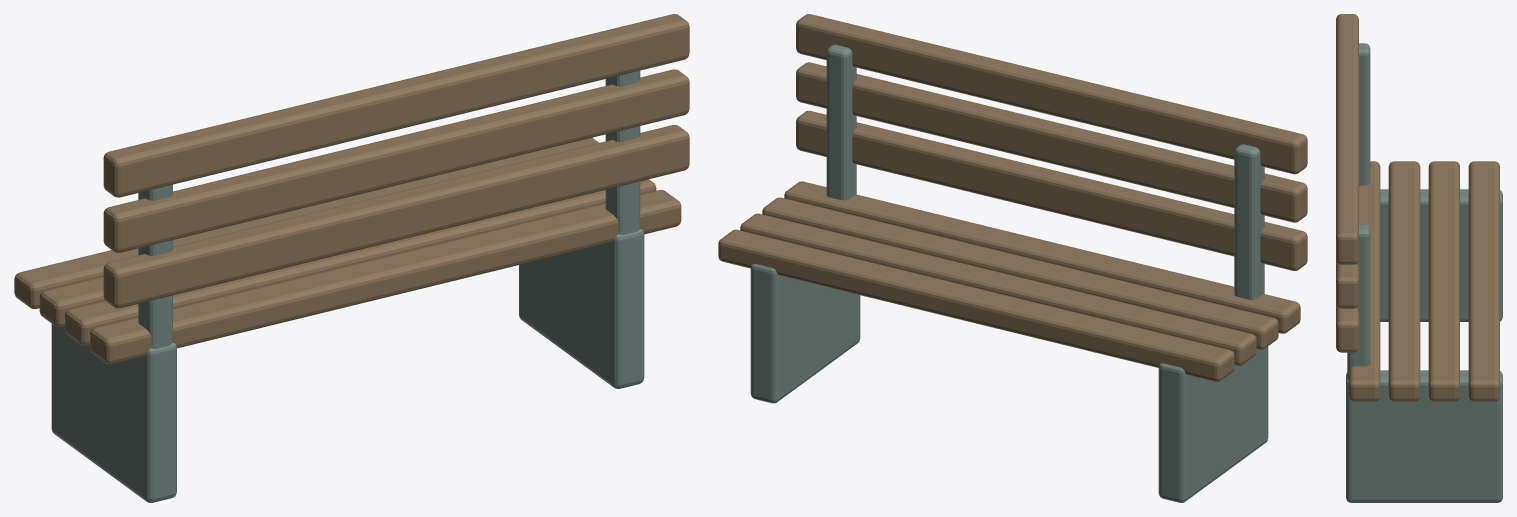
Rendered from bench.glb.
The picture shows the model from 3 angles, left to right: view 1: azimuth 30°, elevation 25°; view 2: azimuth 150°, elevation 25°; view 3: azimuth 270°, elevation 25°; orthographic projection. The views are drawn at different scales.
Parts seen in each view (by area): view 1: Bench_Wood, Bench_Metal; view 2: Bench_Wood, Bench_Metal; view 3: Bench_Wood, Bench_Metal.
Boxes of the visible parts, box(x1,y1,x2,y2) form: Bench_Wood: box(14, 14, 689, 364); Bench_Metal: box(51, 70, 644, 502); Bench_Wood: box(718, 14, 1307, 381); Bench_Metal: box(750, 44, 1268, 502); Bench_Wood: box(1336, 14, 1499, 401); Bench_Metal: box(1346, 43, 1502, 502).
Size of the model in its own units: 1.85 by 1.1 by 0.585.
